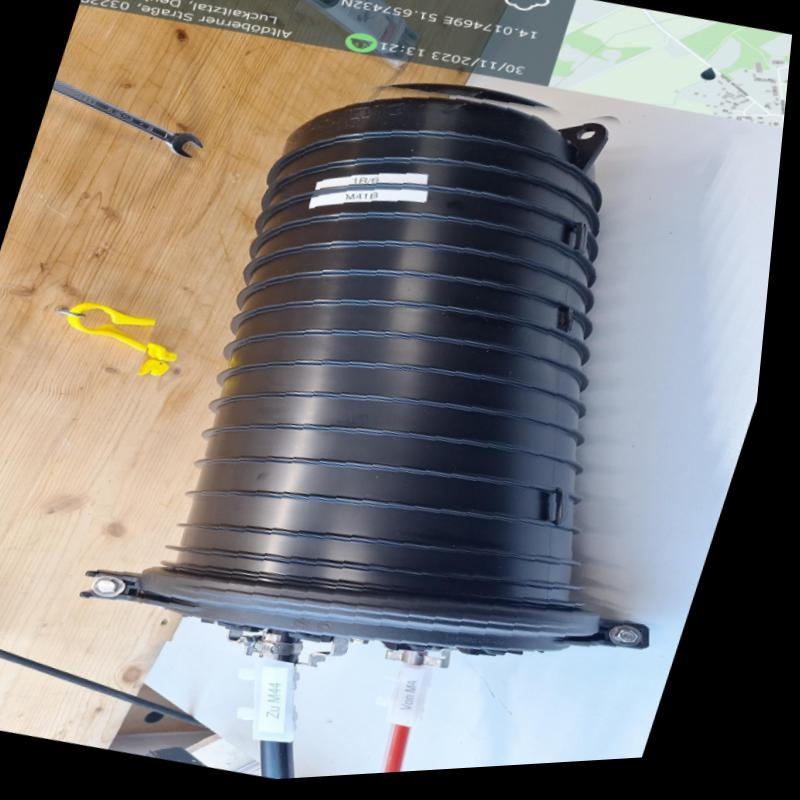NT-Muffen: (81, 94, 677, 692)
